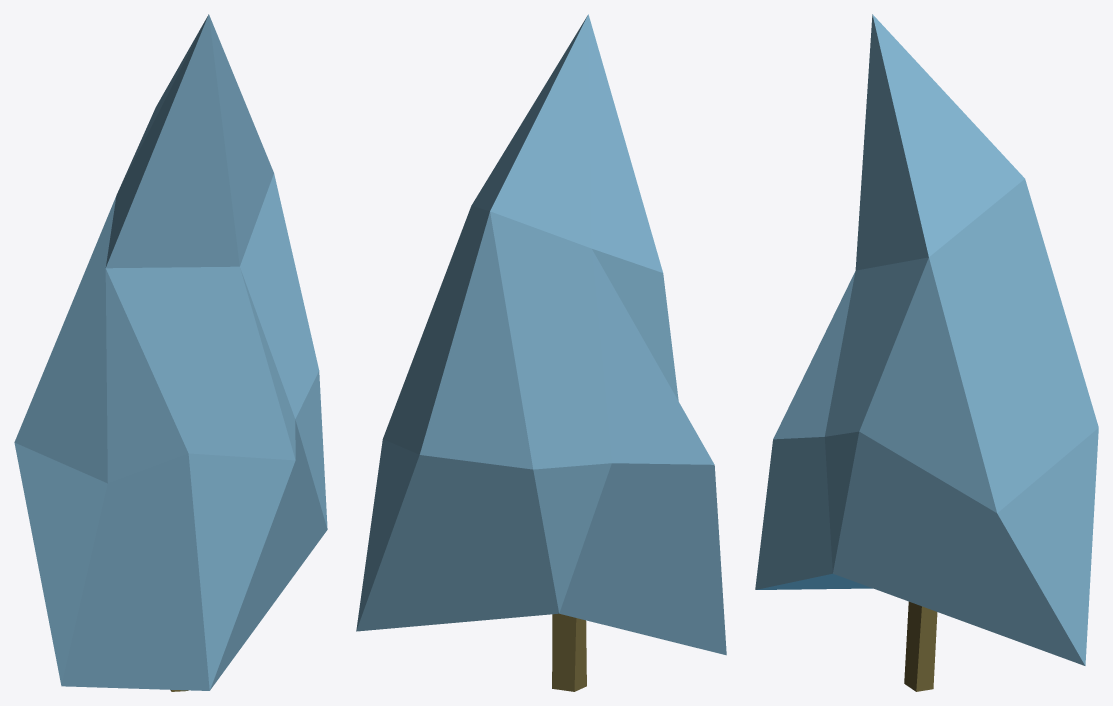
The model's file is TreeWinter8_Alt2.fbx.
The picture shows the model from 3 angles, left to right: view 1: azimuth 30°, elevation 25°; view 2: azimuth 150°, elevation 25°; view 3: azimuth 270°, elevation 25°; orthographic projection. The views are drawn at different scales.
Visible parts, largest first — view 1: TreeWinter8_Alt2; view 2: TreeWinter8_Alt2; view 3: TreeWinter8_Alt2.
Part boxes in pixels (x1,y1,x2,y2): TreeWinter8_Alt2: [14, 14, 327, 691]; TreeWinter8_Alt2: [356, 14, 726, 691]; TreeWinter8_Alt2: [755, 14, 1098, 691].
Size of the model in its own units: 1.32 by 2.74 by 1.27.
